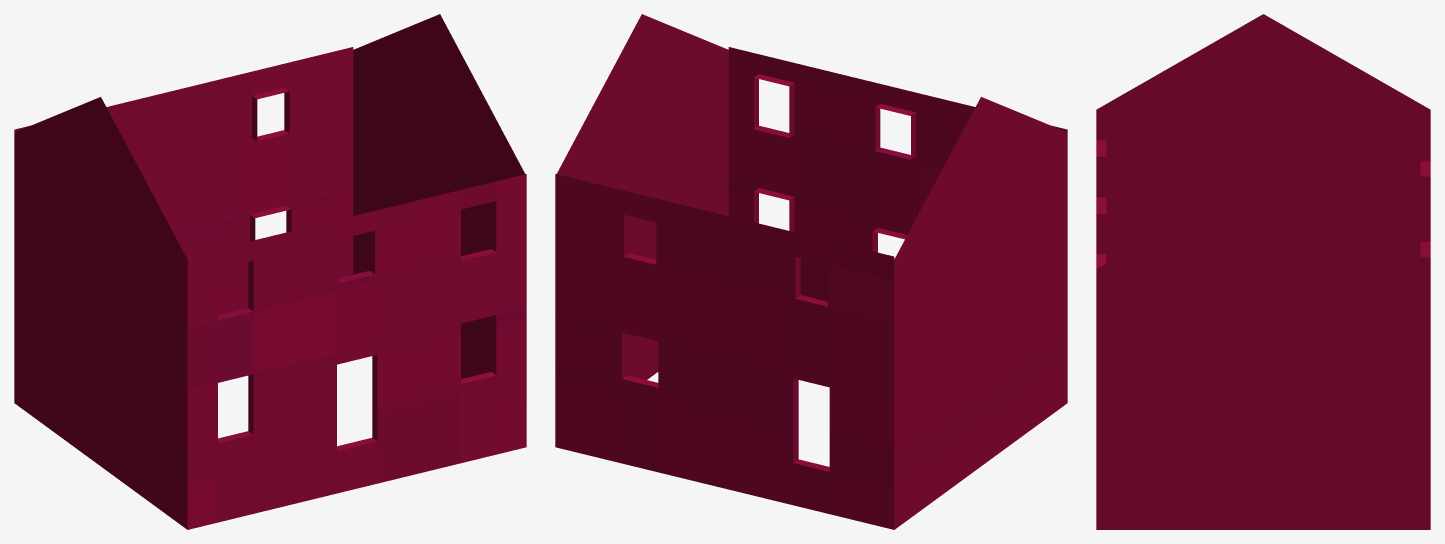
Rendered from SM_Bld_192_Masonry.glb.
The picture shows the model from 3 angles, left to right: view 1: azimuth 30°, elevation 25°; view 2: azimuth 150°, elevation 25°; view 3: azimuth 270°, elevation 25°; orthographic projection. The views are drawn at different scales.
Visible parts, largest first — view 1: SM_Bld_192_Masonry; view 2: SM_Bld_192_Masonry; view 3: SM_Bld_192_Masonry.
Part boxes in pixels (bbox=[...]): SM_Bld_192_Masonry: bbox=[14, 14, 526, 529]; SM_Bld_192_Masonry: bbox=[555, 14, 1067, 529]; SM_Bld_192_Masonry: bbox=[1096, 14, 1430, 529].
Size of the model in its own units: 8.4 by 8.75 by 7.44.
